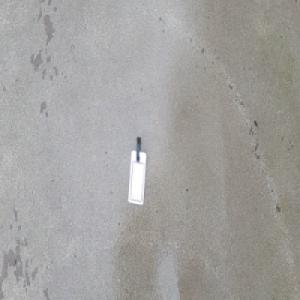LuggageTag: (126, 134, 147, 207)
